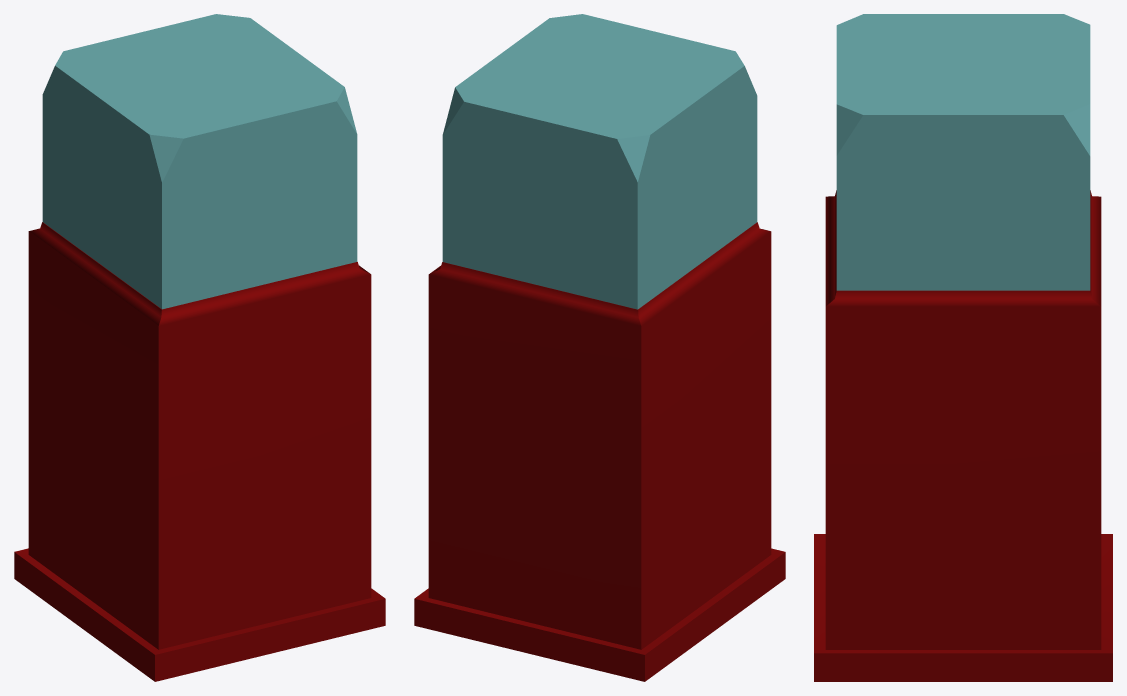
The model's file is DisplayCase_low.fbx.
3 views of the same model, side by side, from view 1: azimuth 30°, elevation 25°; view 2: azimuth 150°, elevation 25°; view 3: azimuth 270°, elevation 25° (orthographic). The views are drawn at different scales.
Visible parts, largest first — view 1: DisplayCase_low, DisplayGlass_low; view 2: DisplayCase_low, DisplayGlass_low; view 3: DisplayCase_low, DisplayGlass_low.
Boxes of the visible parts, left/top/right/bottom form: DisplayCase_low: left=14, top=222, right=385, bottom=681; DisplayGlass_low: left=42, top=14, right=357, bottom=309; DisplayCase_low: left=414, top=222, right=785, bottom=681; DisplayGlass_low: left=442, top=14, right=757, bottom=309; DisplayCase_low: left=814, top=190, right=1112, bottom=681; DisplayGlass_low: left=836, top=14, right=1090, bottom=290.
Bounding box in the file's own units: 61.44 × 134 × 65.
